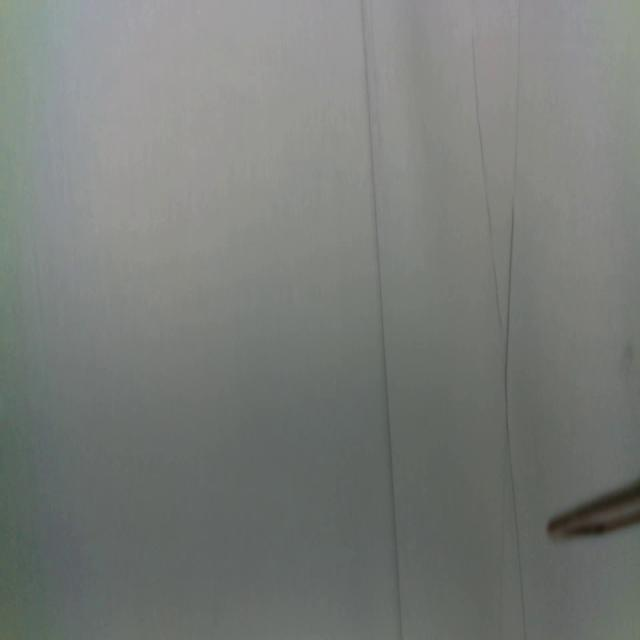crease: (360, 0, 405, 640), (502, 2, 526, 640), (470, 26, 501, 324)
